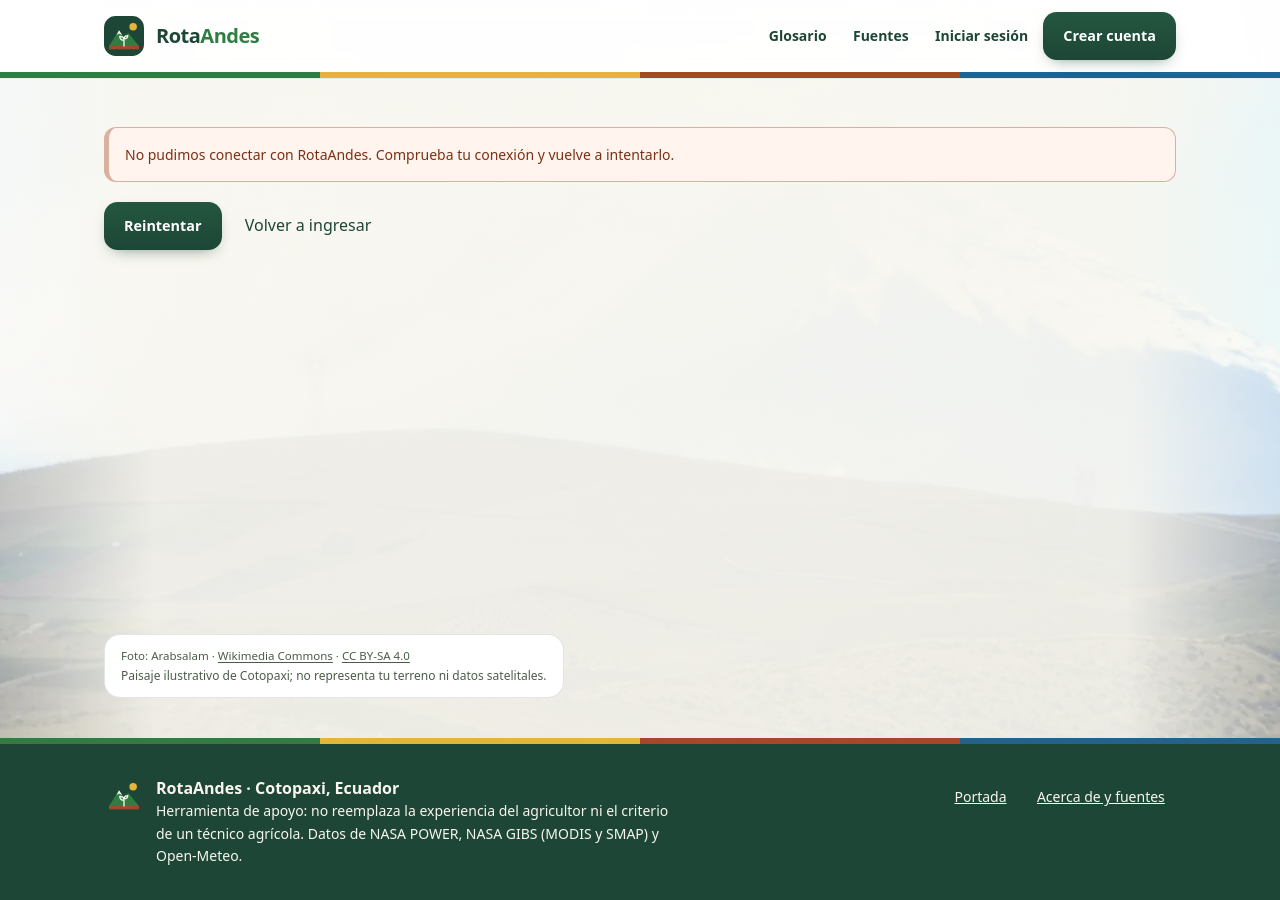
Test case: Sesión y pantallas › un fallo de red bloquea la vista y permite reintentar
The image size is (1280, 900).
Expected: the message shows "No pudimos conectar", [125, 145, 674, 164]
Expected: the text "Bienvenido" is not shown
Click the button "Reintentar": (163, 226) [104, 202, 222, 250]
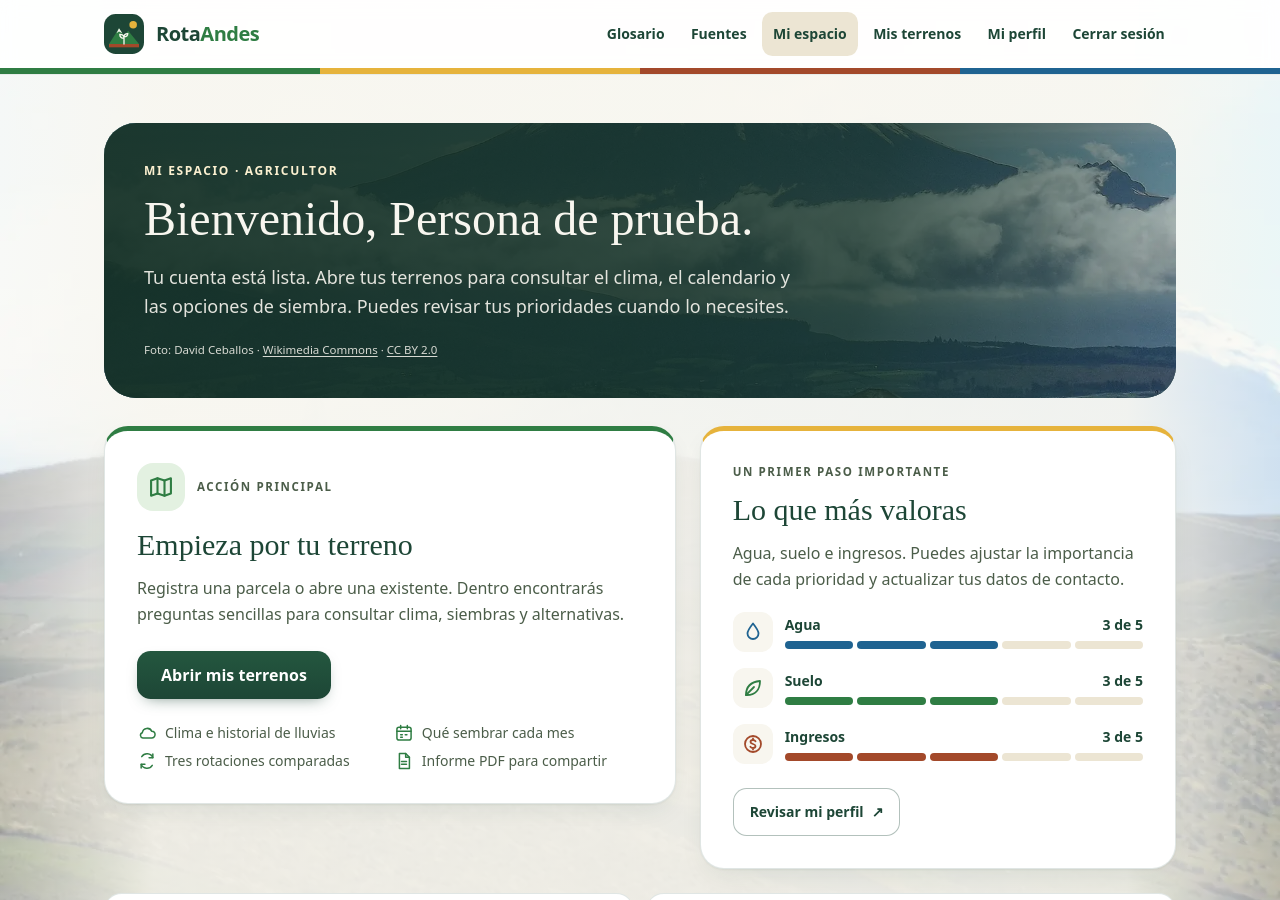
Expected: the heading "Bienvenido, Persona de prueba." is shown, [144, 195, 816, 243]
